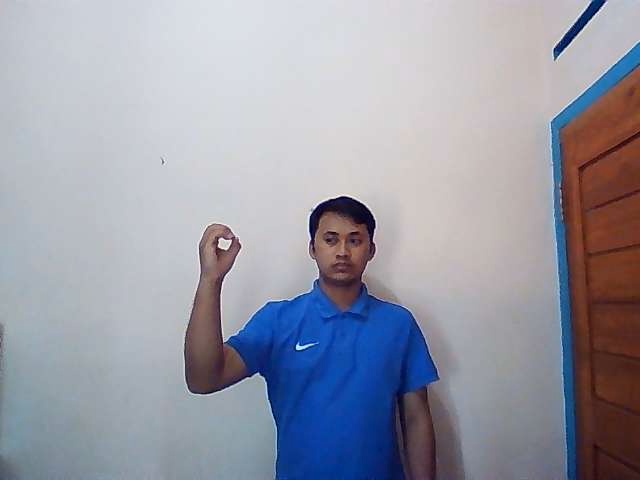O: (196, 222, 242, 279)
